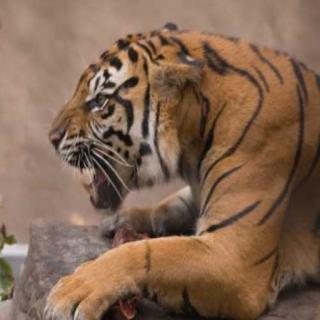Tiger: (37, 15, 320, 319)
